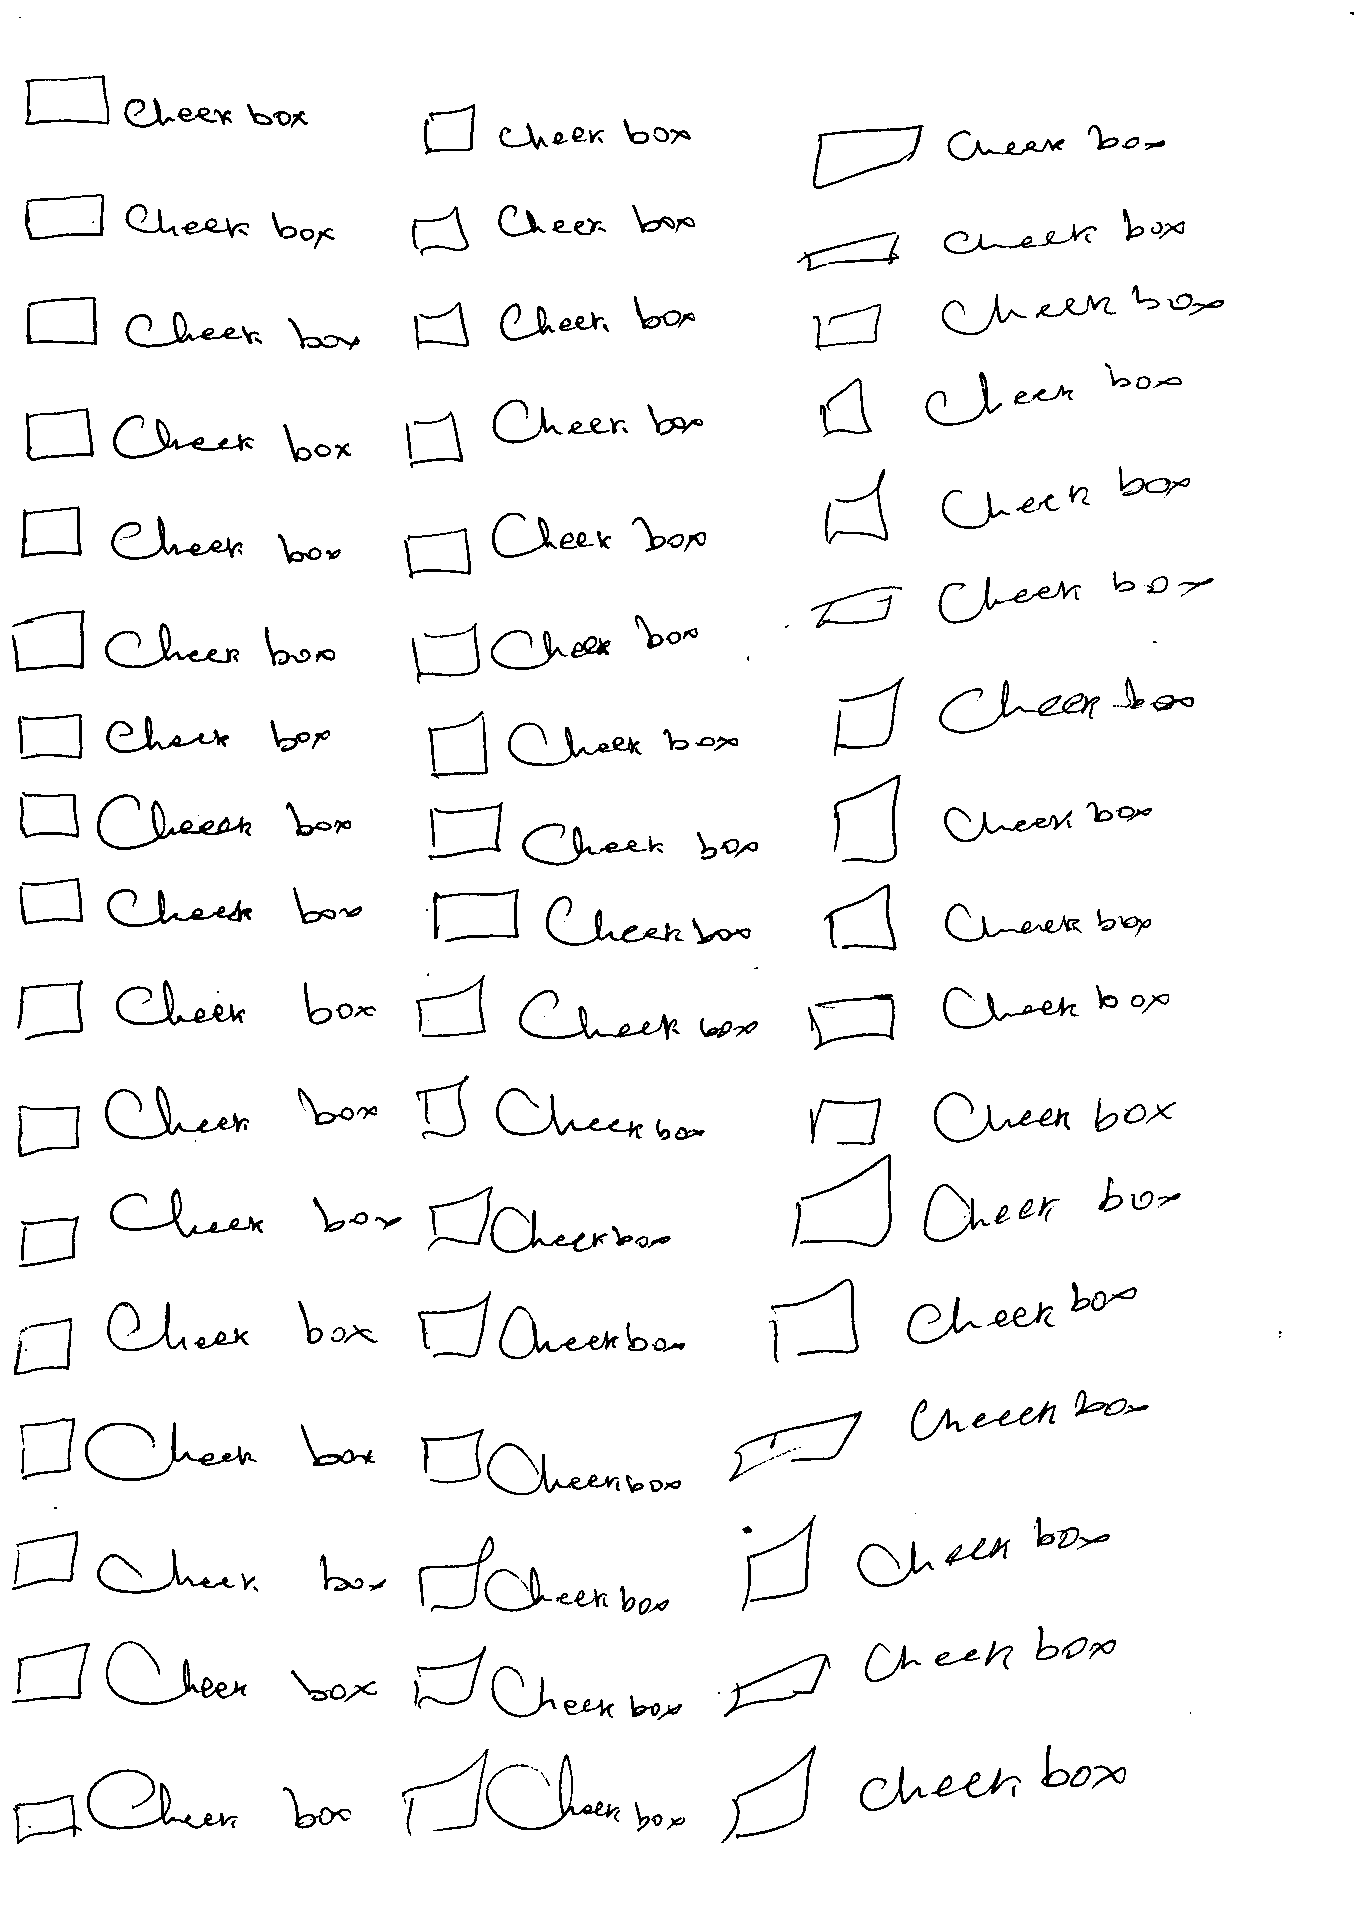Check Box: (16, 1187, 404, 1270), (9, 1298, 378, 1378), (12, 1765, 353, 1847), (13, 1085, 381, 1159), (424, 708, 741, 781), (401, 398, 707, 470), (7, 611, 339, 676), (15, 790, 353, 852), (404, 512, 708, 580), (424, 804, 764, 862), (24, 296, 362, 353), (21, 191, 337, 251), (418, 1428, 686, 1499), (432, 887, 757, 945), (24, 408, 353, 464), (19, 506, 340, 563), (16, 877, 364, 929), (21, 72, 307, 130), (13, 713, 330, 761), (420, 103, 692, 157)
